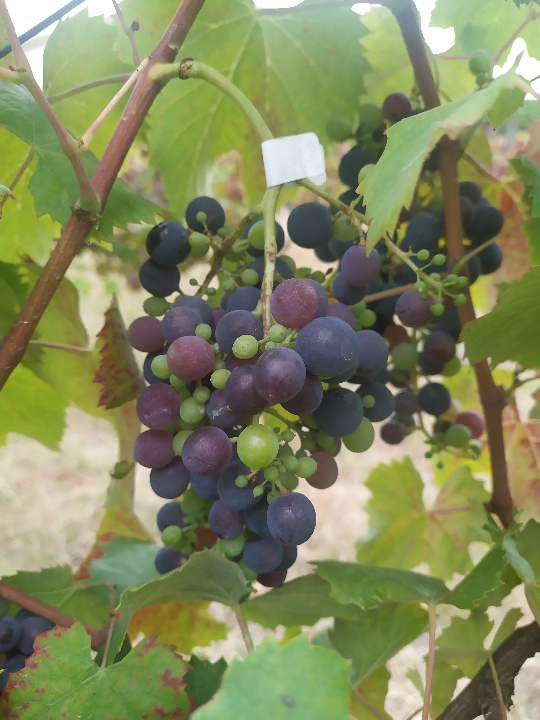grape: (121, 187, 396, 590)
